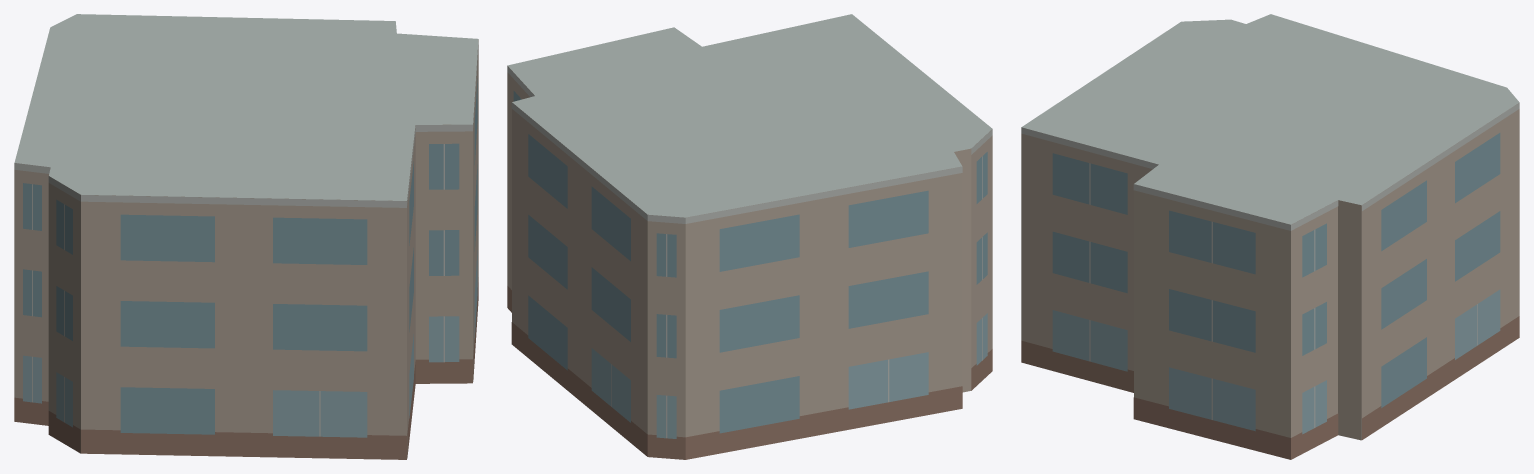
File: survey-upis-32776261.glb
The picture shows the model from 3 angles, left to right: view 1: azimuth 30°, elevation 25°; view 2: azimuth 150°, elevation 25°; view 3: azimuth 270°, elevation 25°; orthographic projection. The views are drawn at different scales.
Visible parts, largest first — view 1: survey-upis-32776261.tmp; view 2: survey-upis-32776261.tmp; view 3: survey-upis-32776261.tmp.
Boxes of the visible parts, x1=… form: survey-upis-32776261.tmp: x1=14, y1=14, x2=478, y2=459; survey-upis-32776261.tmp: x1=507, y1=14, x2=992, y2=459; survey-upis-32776261.tmp: x1=1021, y1=14, x2=1519, y2=459.
Bounding box in the file's own units: 17.59 × 9.15 × 17.58.
